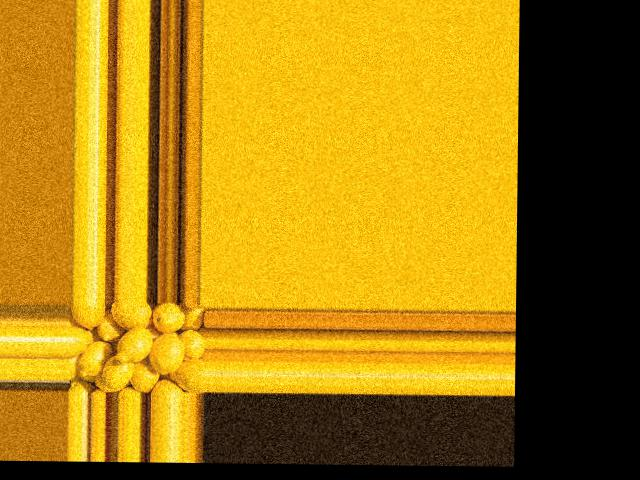lemon: (98, 356, 131, 391)
